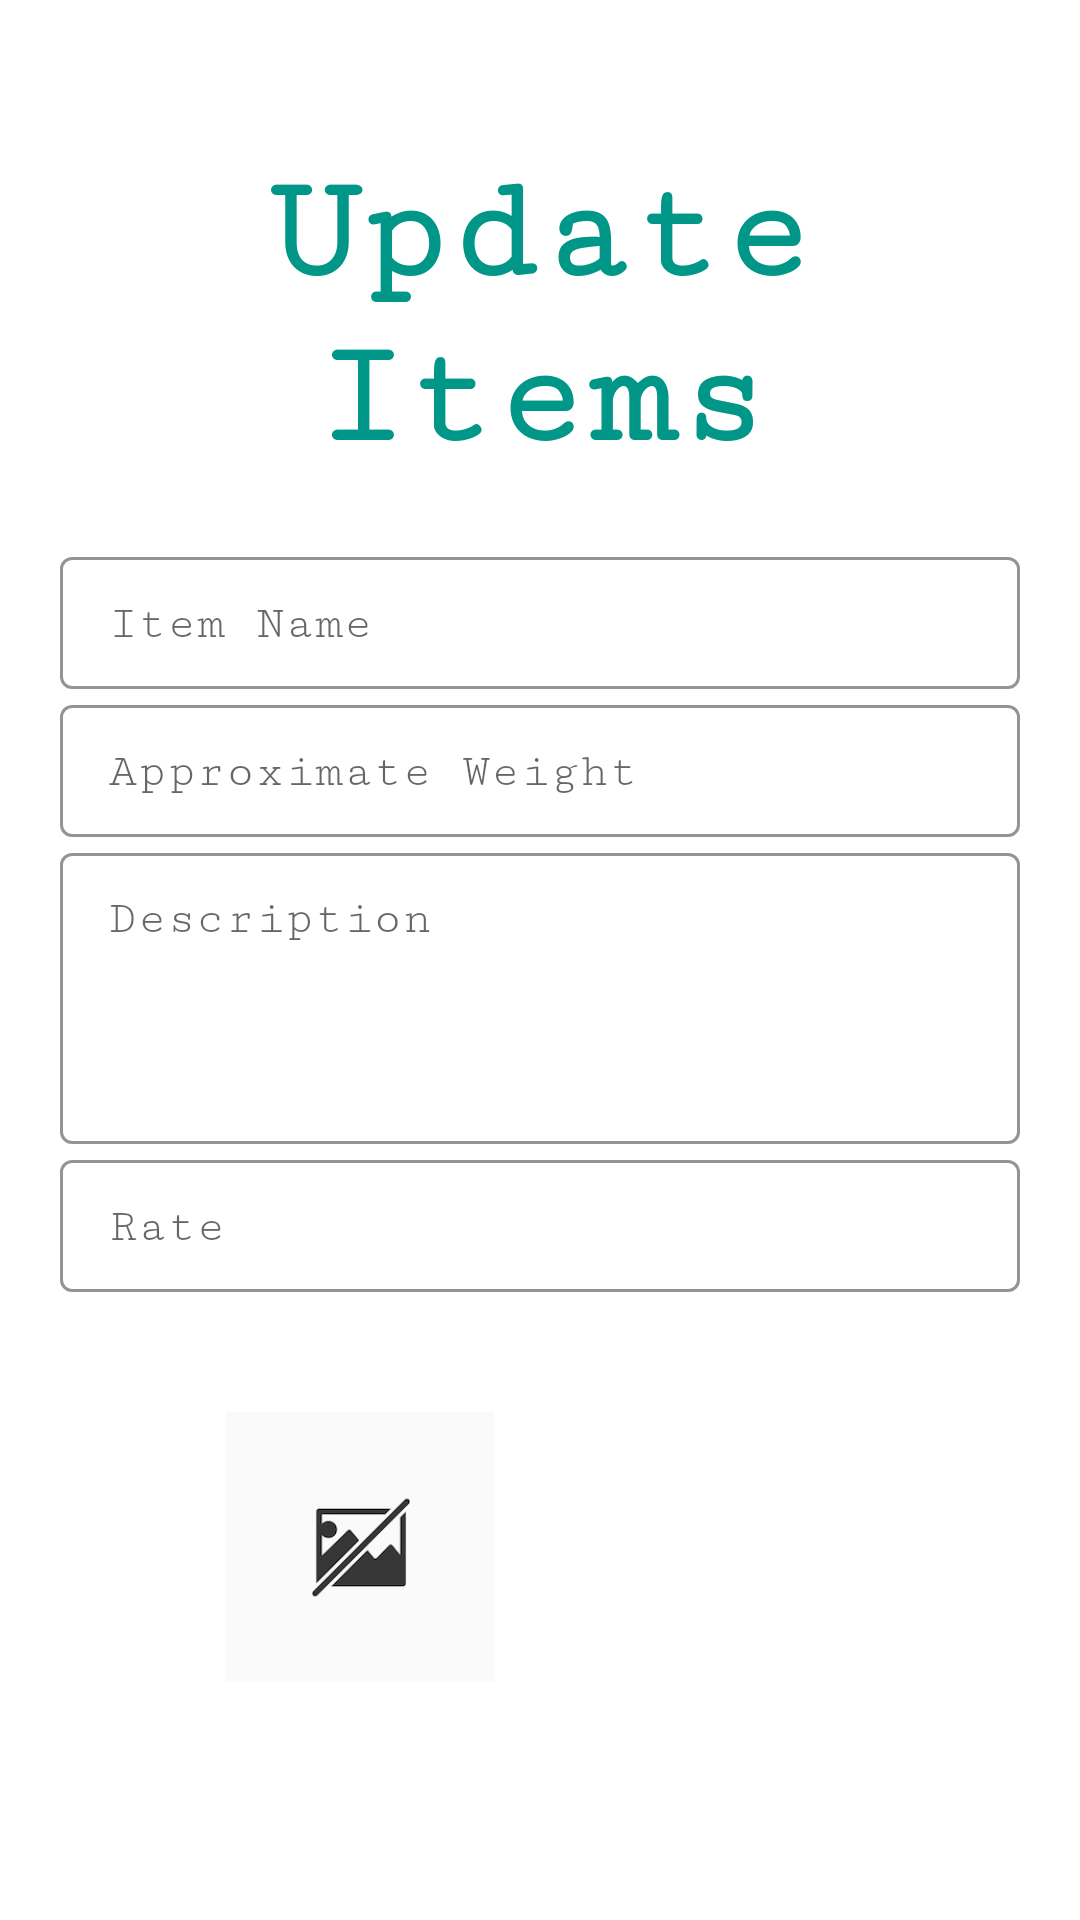

Screen size 1080×1920. Icon name, then its box in pixels as BBox(x1, y1, x2, y2):
noimg: BBox(312, 1498, 410, 1597)
